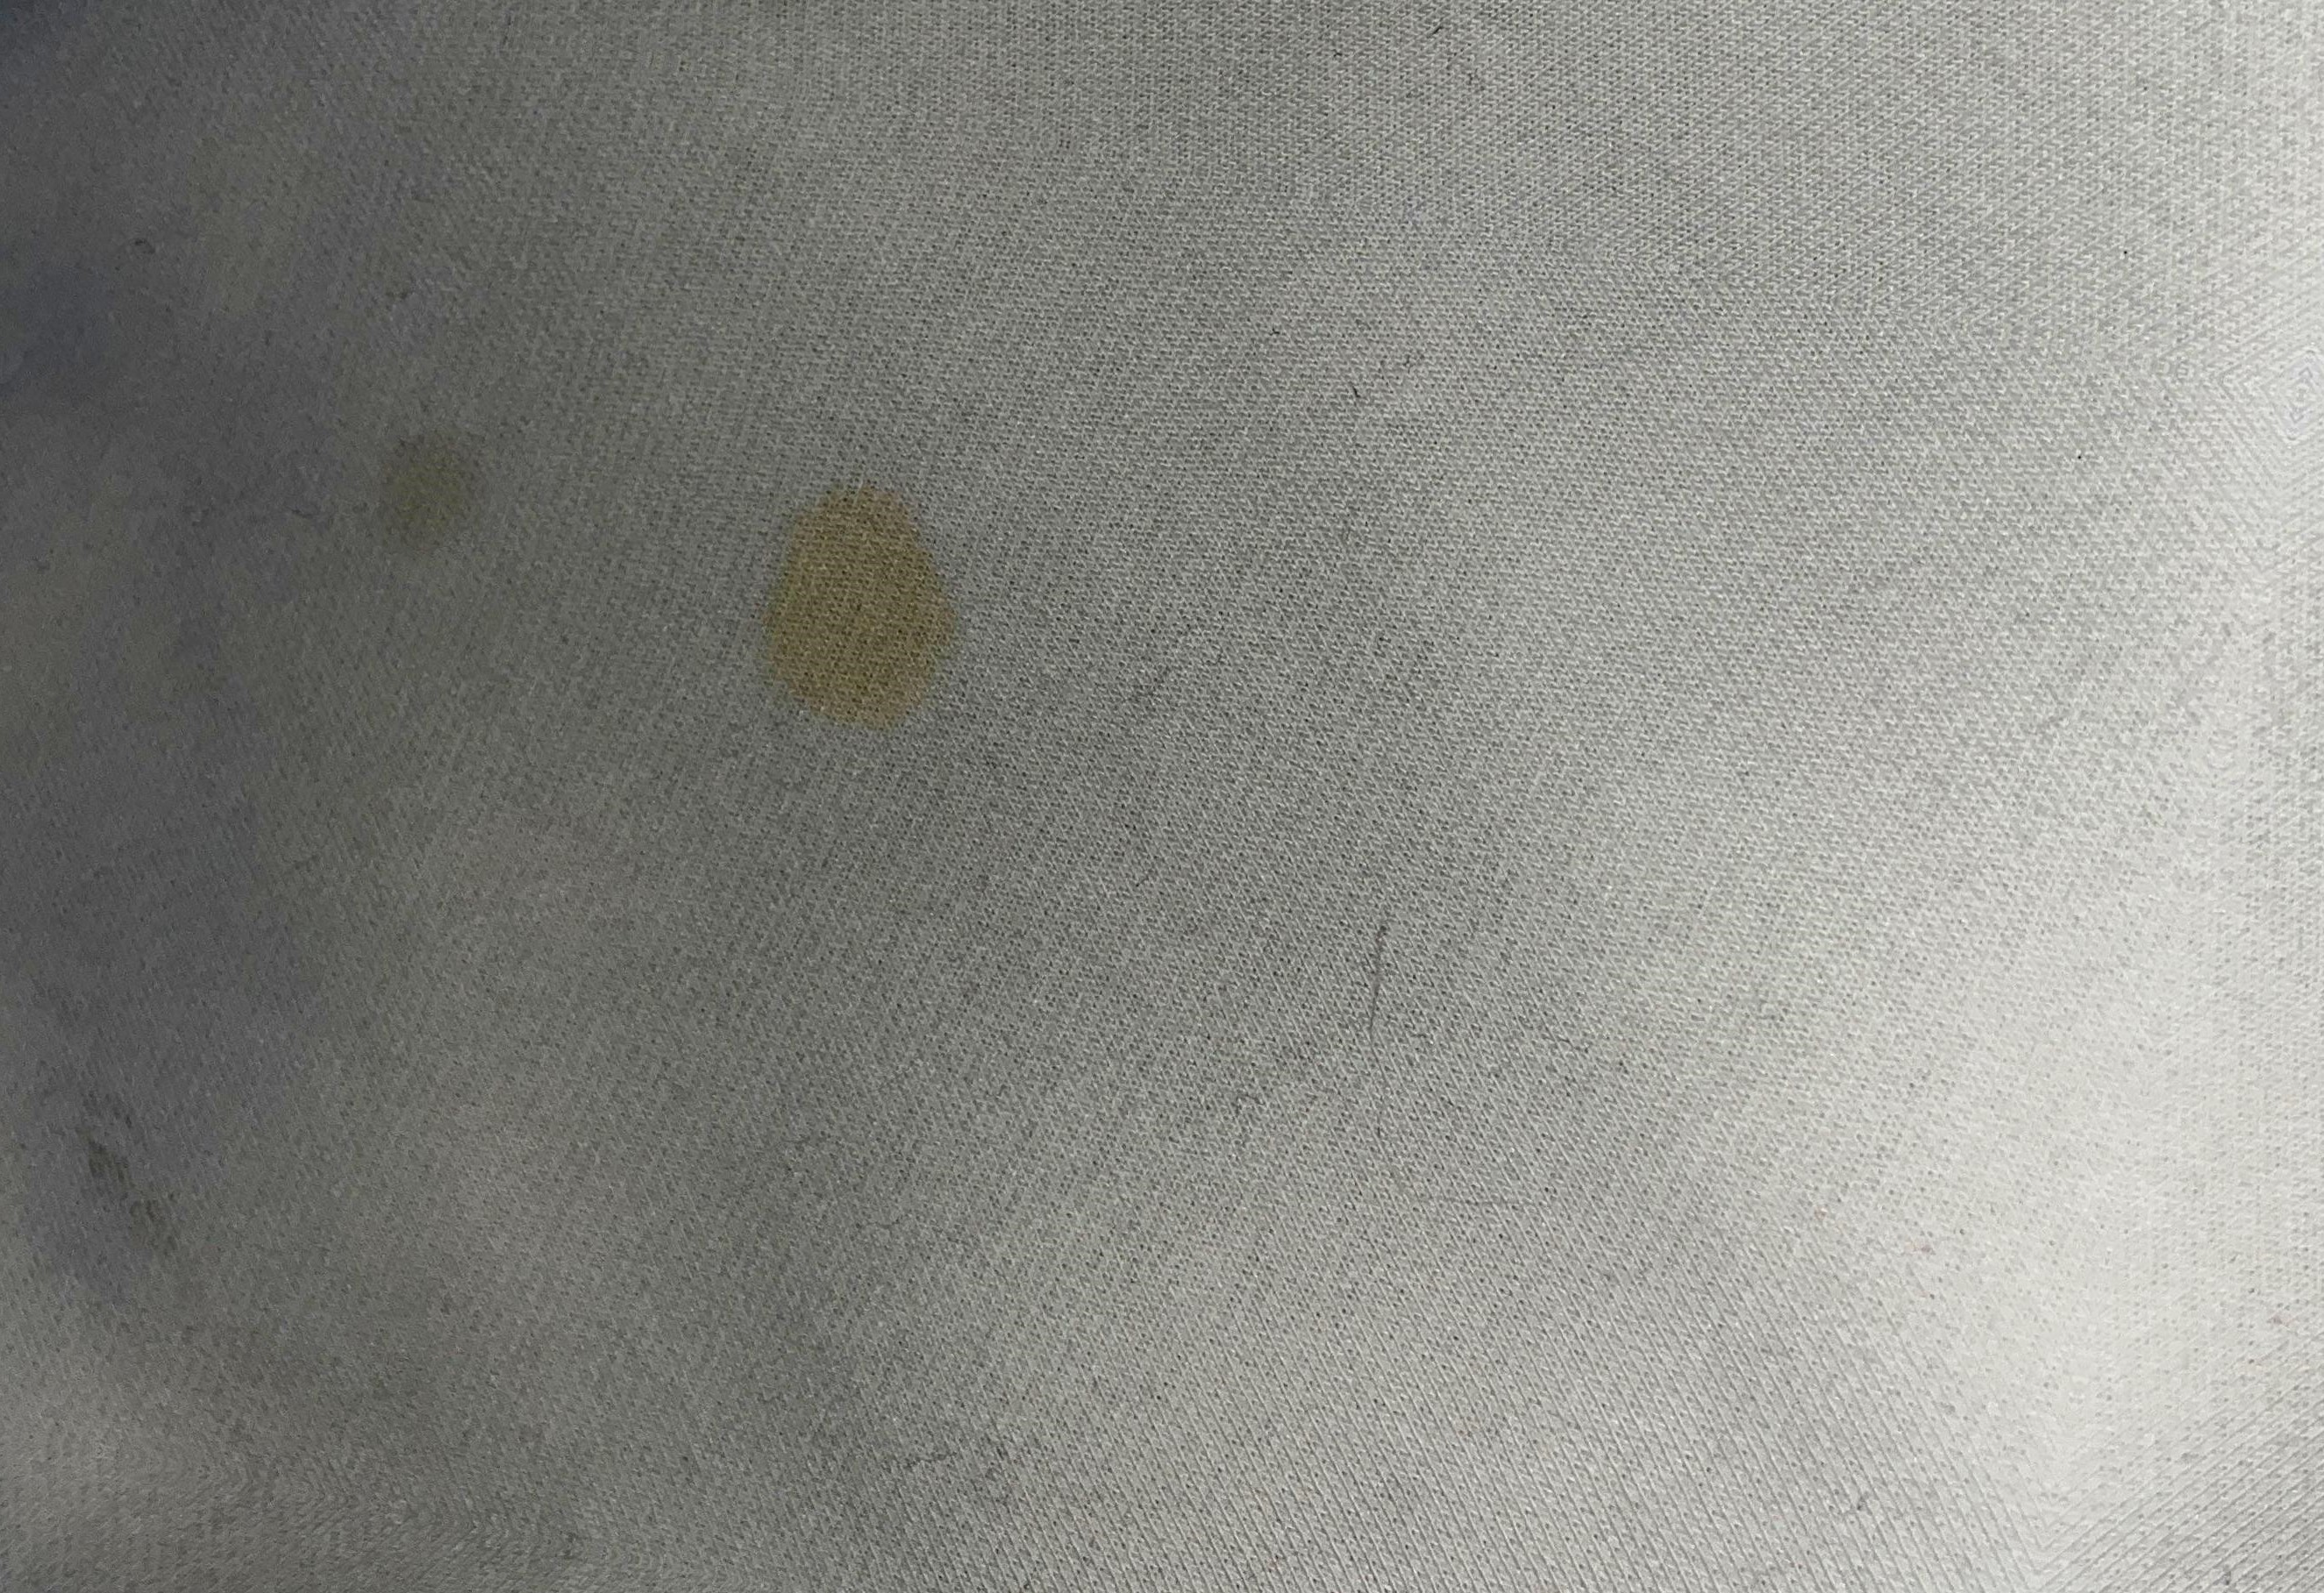stain: (754, 472, 991, 747), (341, 392, 502, 569)
